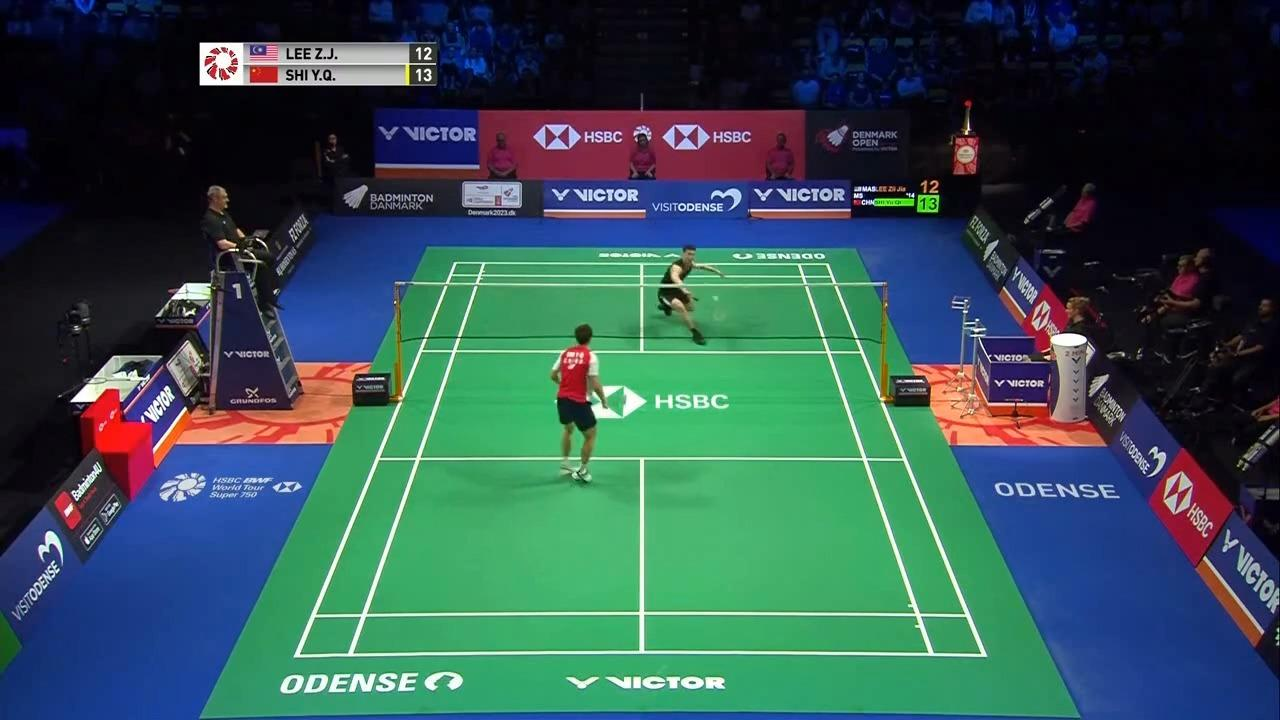shuttle: (710, 294, 720, 302)
